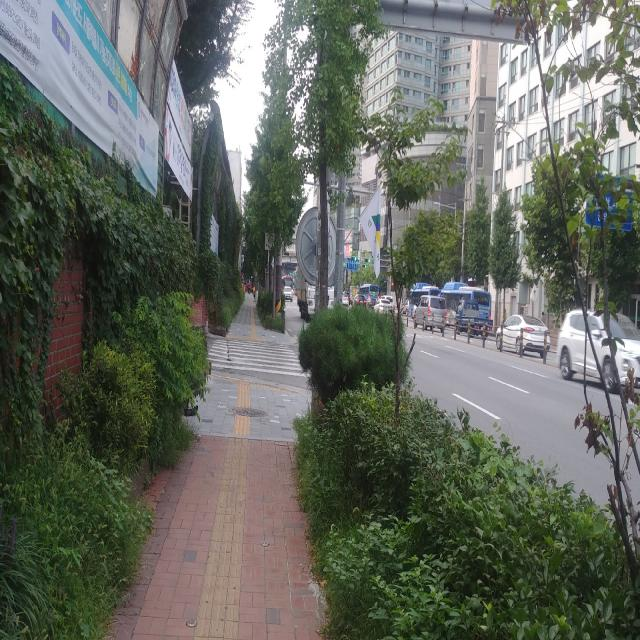횡단보도: (205, 338, 312, 378)
